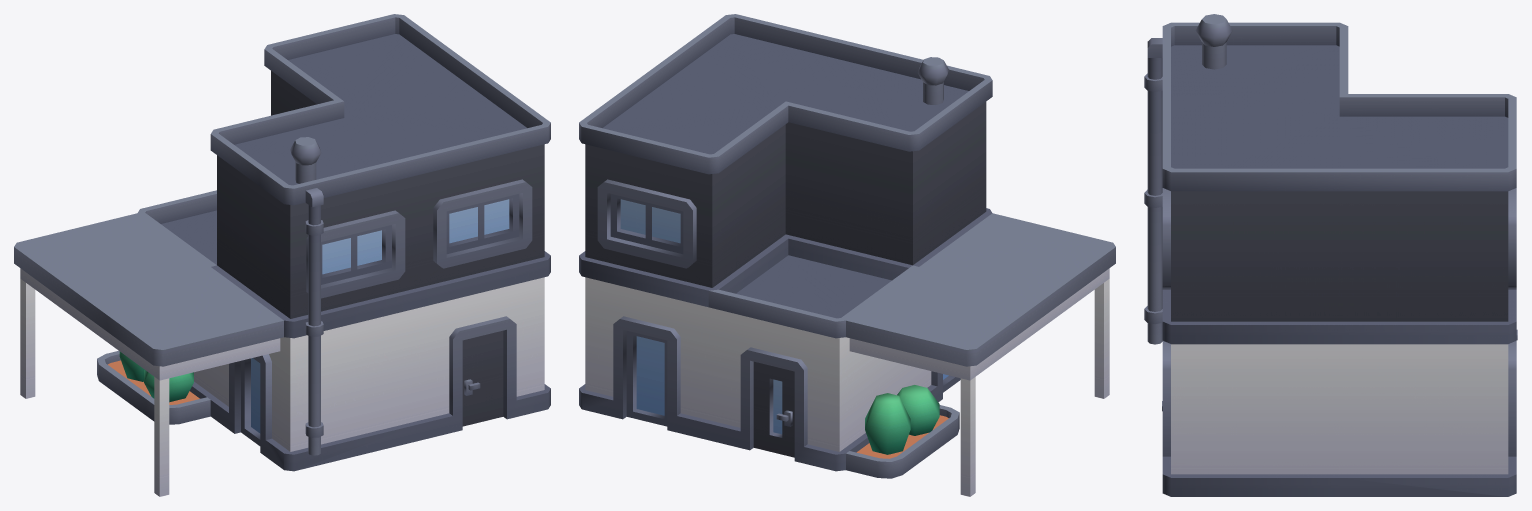
Rendered from building-type-q.draco.glb.
3 views of the same model, side by side, from view 1: azimuth 30°, elevation 25°; view 2: azimuth 150°, elevation 25°; view 3: azimuth 270°, elevation 25° (orthographic). The views are drawn at different scales.
Parts seen in each view (by area): view 1: building-type-q; view 2: building-type-q; view 3: building-type-q.
Part boxes in pixels (box(x1,y1,x2,y2)): building-type-q: box(14, 14, 550, 496); building-type-q: box(579, 14, 1115, 496); building-type-q: box(1144, 14, 1517, 496).
Size of the model in its own units: 1.24 by 0.918 by 0.8856.
1 material, 1 textured.
